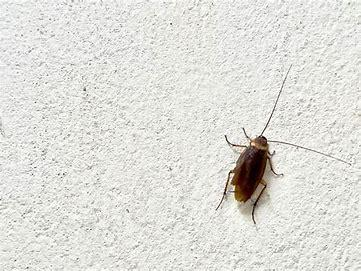cockroach: (205, 71, 359, 232)
